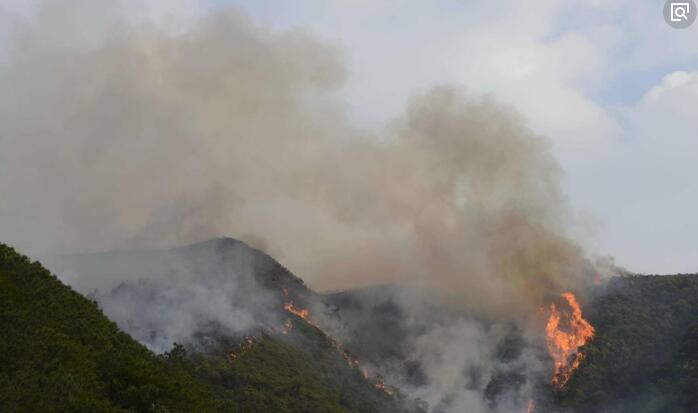fire: (276, 286, 394, 398), (524, 287, 597, 412)
yanwu: (0, 2, 613, 412)
